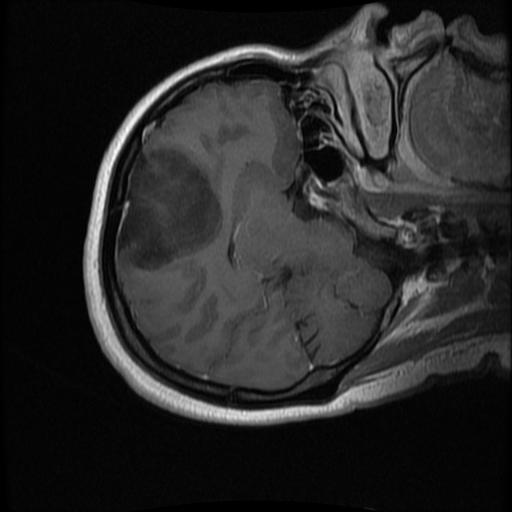glioma: (117, 149, 222, 271)
